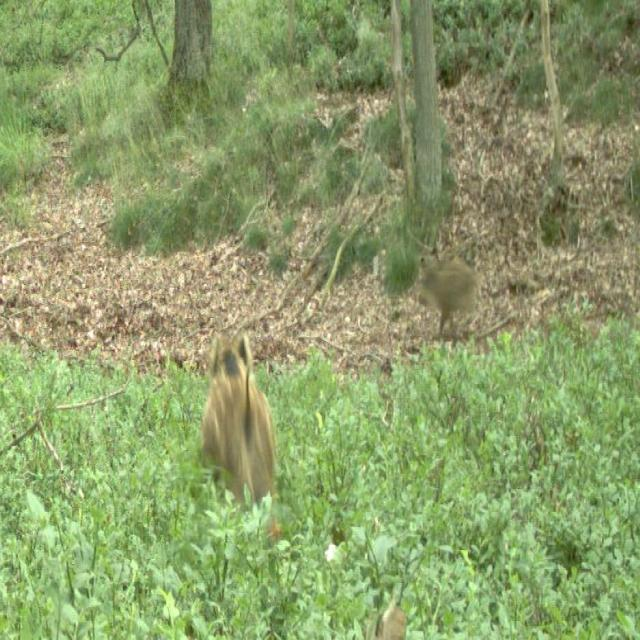pig: (181, 295, 316, 511), (400, 187, 518, 341)
